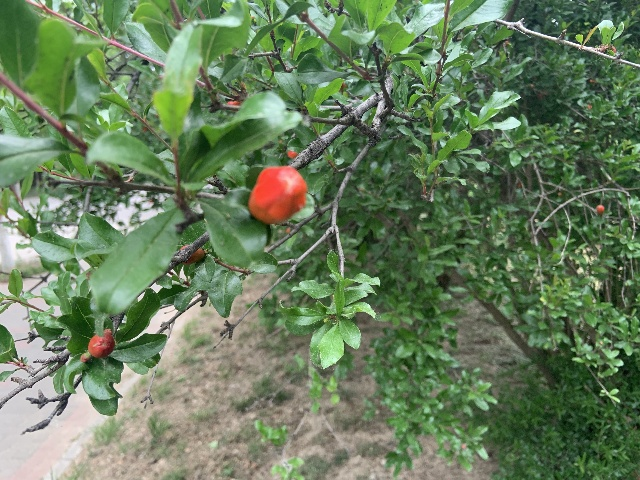bud: (248, 164, 306, 225), (88, 333, 115, 358), (180, 245, 204, 264), (80, 352, 91, 362), (596, 204, 604, 214)
